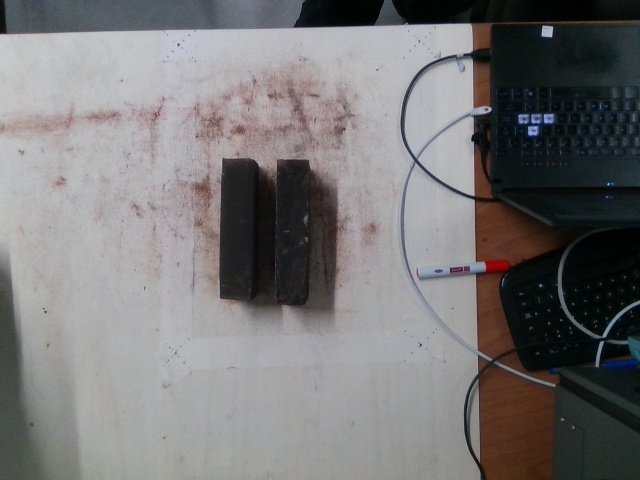brick-side: (273, 159, 310, 301), (220, 161, 252, 297)
